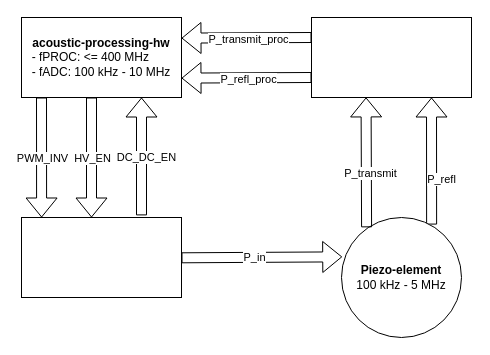
Image size: 490x355. Some labels were removed from this diagram. The box of each missing label's shape, as (x1, y1, x2, y2) in pixels:
acoustic-piezodriver-hw - Vpp: 45 V, Ip: 4 A, Irms: 3 A - f: 100 kHz - 5 MHz: (20, 216, 182, 298)
acoustic-preamp-hw: (310, 16, 472, 98)
